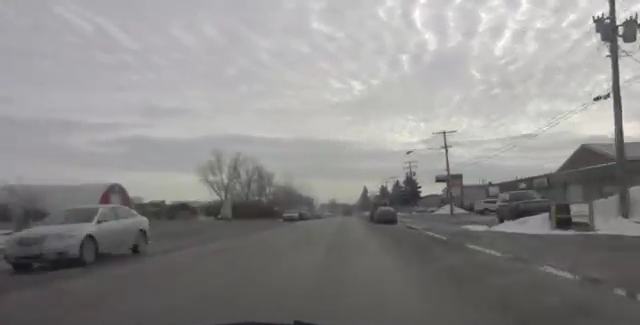car: (4, 201, 150, 273), (495, 188, 549, 224), (473, 197, 510, 215), (372, 204, 398, 224), (282, 209, 300, 220)
